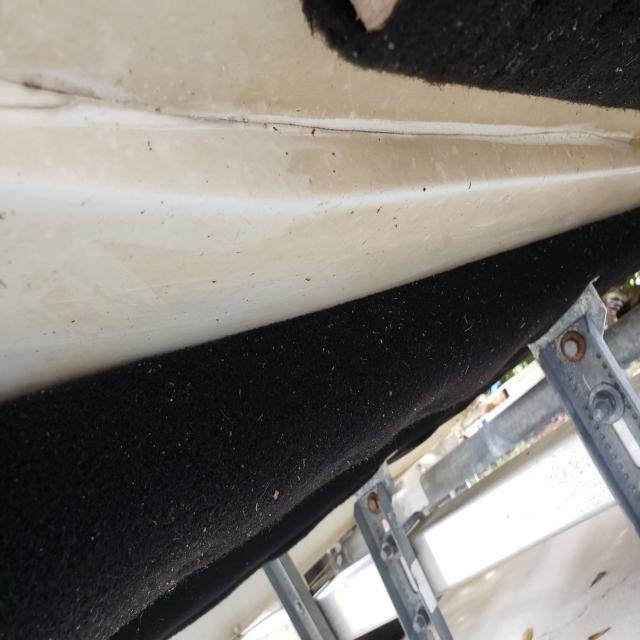Rupture: (6, 68, 631, 146)
